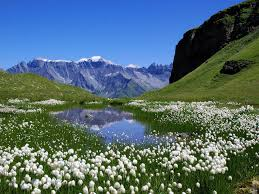field: (6, 76, 256, 192)
flower: (12, 133, 245, 194)
mountain: (17, 47, 182, 97)
